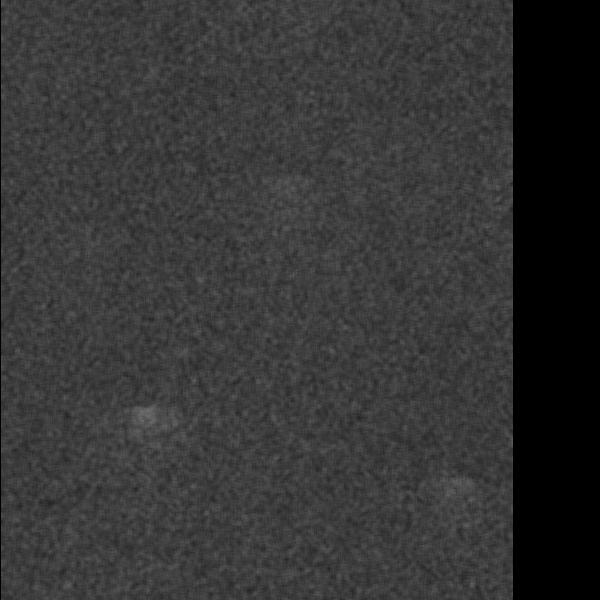spark: (10, 81, 58, 180), (209, 225, 299, 256), (132, 336, 192, 377)
